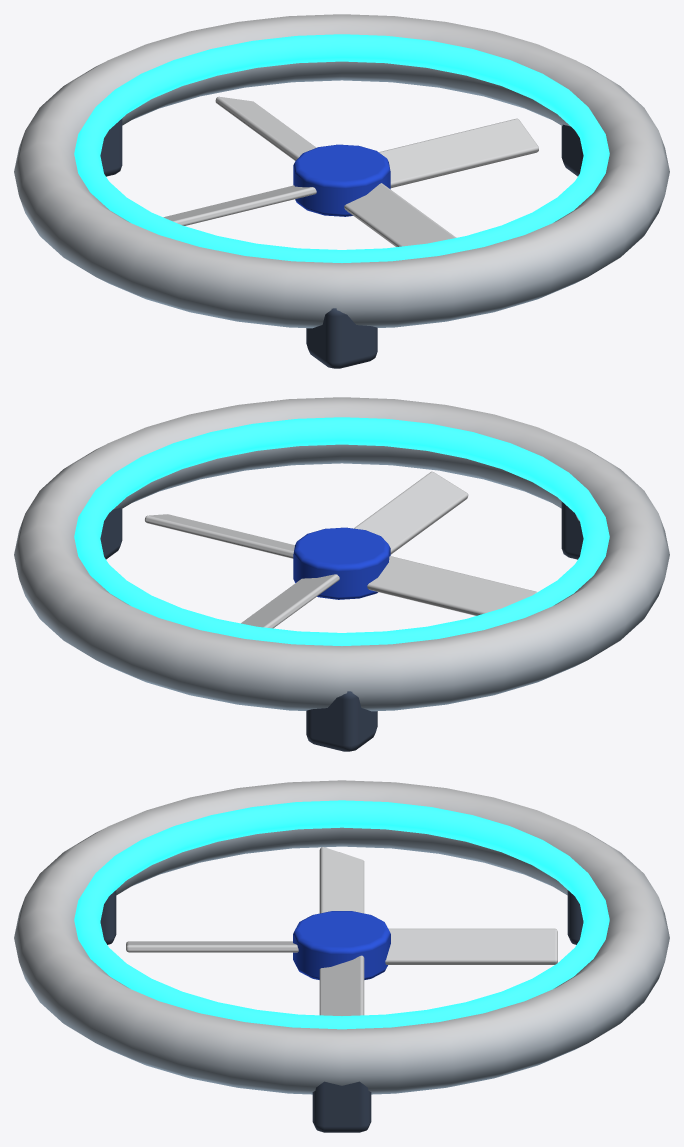
File: PROP_WindRing.glb
3 renders of one model, top to bottom at view 1: azimuth 30°, elevation 25°; view 2: azimuth 150°, elevation 25°; view 3: azimuth 270°, elevation 25°, orthographic.
Parts seen in each view (by area): view 1: Frame, Glow, Blade_0, Hub, Blade_3, Blade_1, Blade_2; view 2: Frame, Glow, Hub, Blade_2, Blade_3, Blade_0, Blade_1; view 3: Frame, Glow, Blade_1, Hub, Blade_2, Blade_0, Blade_3.
Part boxes in pixels (left/top/right/bottom): Frame: left=14, top=14, right=669, bottom=368; Glow: left=74, top=34, right=609, bottom=262; Blade_0: left=379, top=118, right=538, bottom=188; Hub: left=293, top=144, right=390, bottom=216; Blade_3: left=344, top=183, right=456, bottom=246; Blade_1: left=215, top=96, right=316, bottom=160; Blade_2: left=163, top=185, right=316, bottom=225; Frame: left=14, top=397, right=669, bottom=751; Glow: left=74, top=417, right=609, bottom=645; Hub: left=293, top=527, right=390, bottom=599; Blade_2: left=367, top=556, right=537, bottom=615; Blade_3: left=354, top=471, right=468, bottom=554; Blade_0: left=145, top=514, right=294, bottom=558; Blade_1: left=241, top=574, right=339, bottom=628; Frame: left=14, top=780, right=669, bottom=1132; Glow: left=74, top=800, right=609, bottom=1029; Blade_1: left=385, top=928, right=557, bottom=964; Hub: left=293, top=911, right=390, bottom=979; Blade_2: left=319, top=847, right=364, bottom=913; Blade_0: left=319, top=955, right=364, bottom=1015; Blade_3: left=126, top=941, right=298, bottom=952.
Size of the model in its own units: 3.34 by 0.5117 by 3.34.
